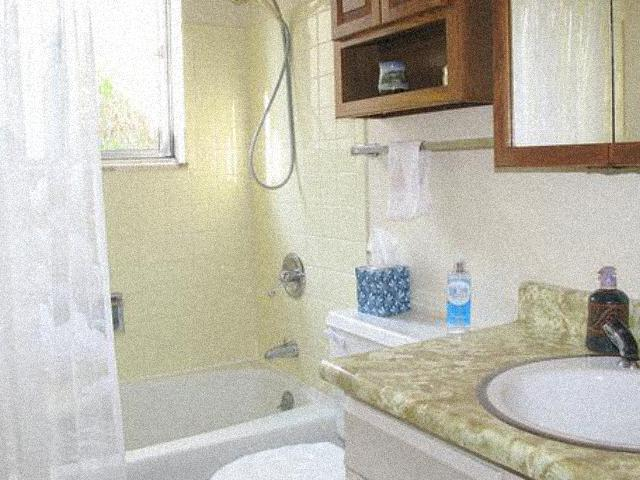Lavamanos: (483, 323, 640, 468)
Sanitario: (203, 308, 482, 480)
